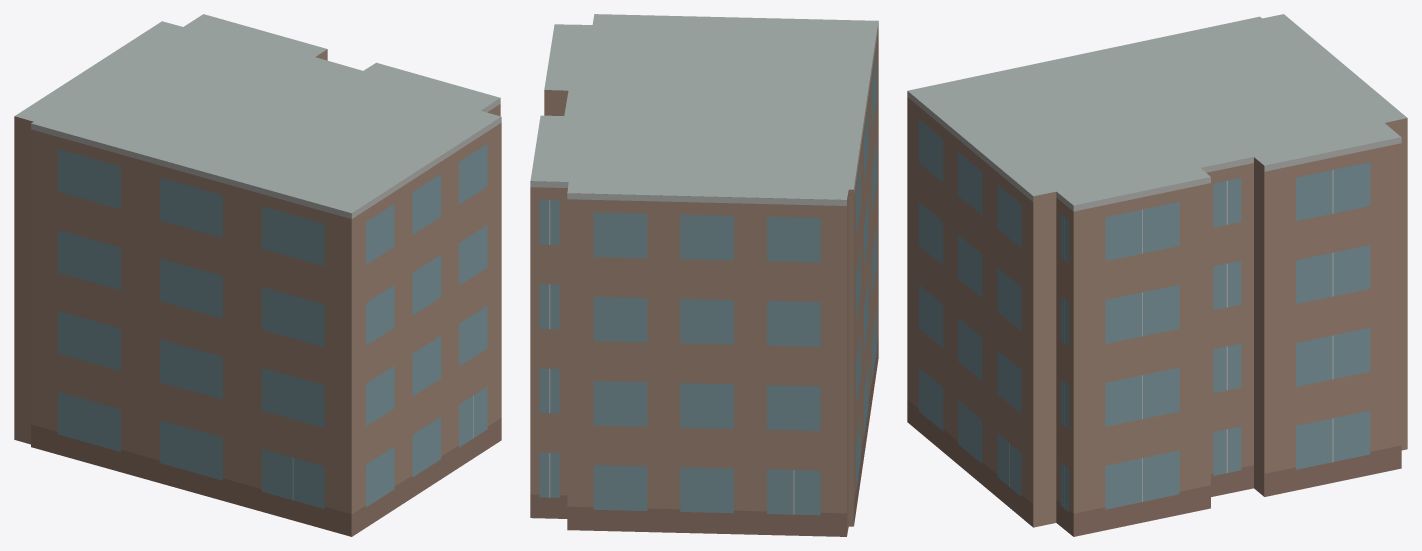
The model's file is survey-upis-32697332.glb.
3 renders of one model, left to right at view 1: azimuth 30°, elevation 25°; view 2: azimuth 150°, elevation 25°; view 3: azimuth 270°, elevation 25°, orthographic. The views are drawn at different scales.
Visible parts, largest first — view 1: survey-upis-32697332.tmp; view 2: survey-upis-32697332.tmp; view 3: survey-upis-32697332.tmp.
Part boxes in pixels (left/top/right/bottom): survey-upis-32697332.tmp: left=14, top=14, right=501, bottom=536; survey-upis-32697332.tmp: left=530, top=14, right=878, bottom=536; survey-upis-32697332.tmp: left=907, top=14, right=1407, bottom=536.
Bounding box in the file's own units: 16.69 × 13.45 × 18.42.
